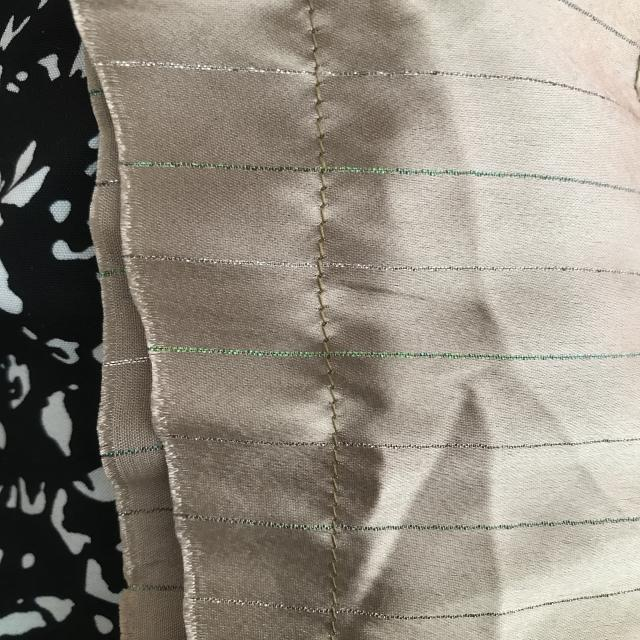good: (305, 275, 352, 349), (301, 85, 345, 156), (311, 373, 356, 440), (309, 541, 357, 597), (303, 185, 342, 241)
